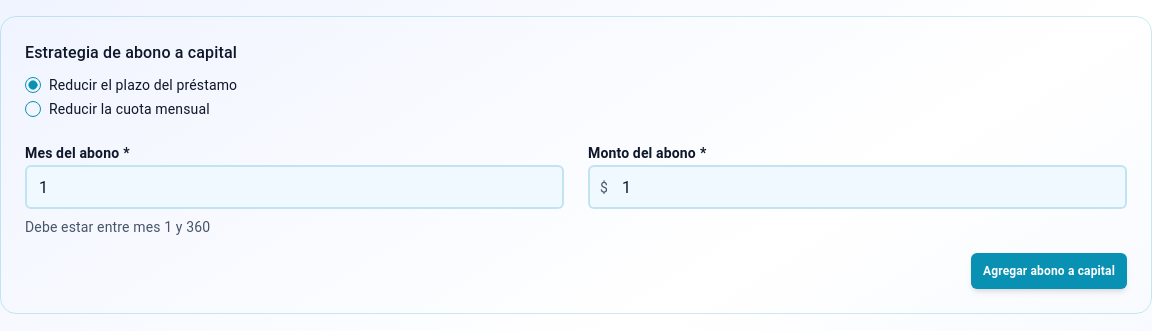
Test: PrepaymentForm › debe limpiar el formulario después de agregar
Step 1. Replace the text in the number field labelled "Mes del abono*" with "24" → (294, 187), box x1=25 y1=165 x2=564 y2=209
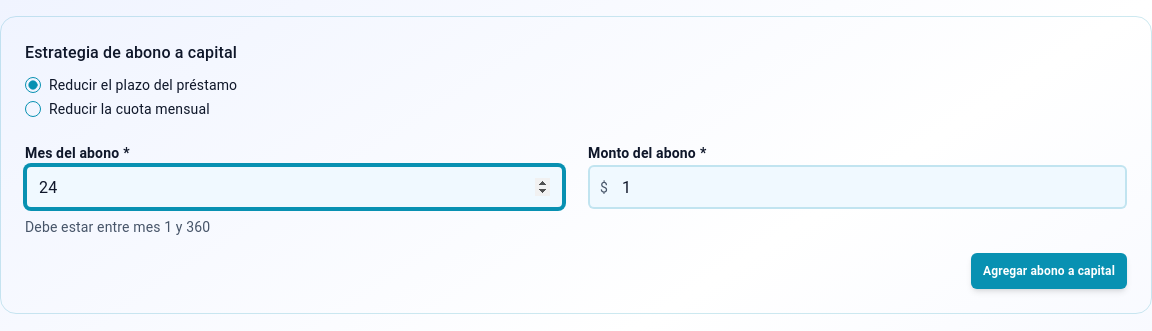
Step 2. Replace the text in the number field labelled "Monto del abono*" with "5000" → (858, 187), box x1=588 y1=165 x2=1127 y2=209
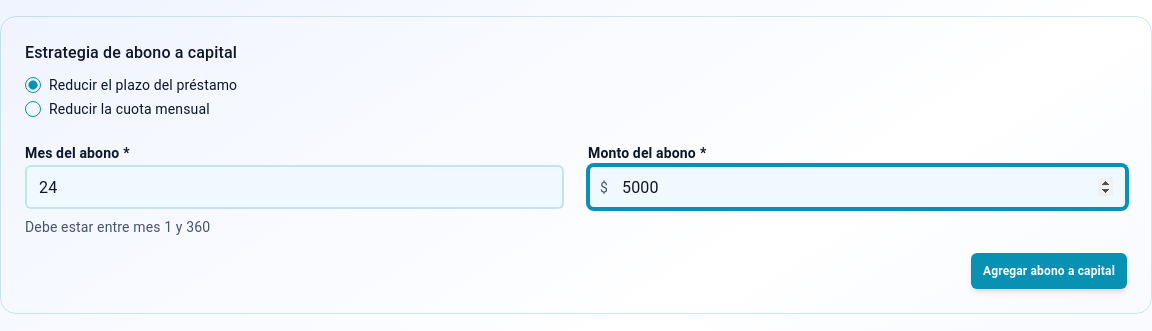
Step 3. Click the button "Agregar abono a capital" → (1049, 271), box x1=971 y1=253 x2=1127 y2=289
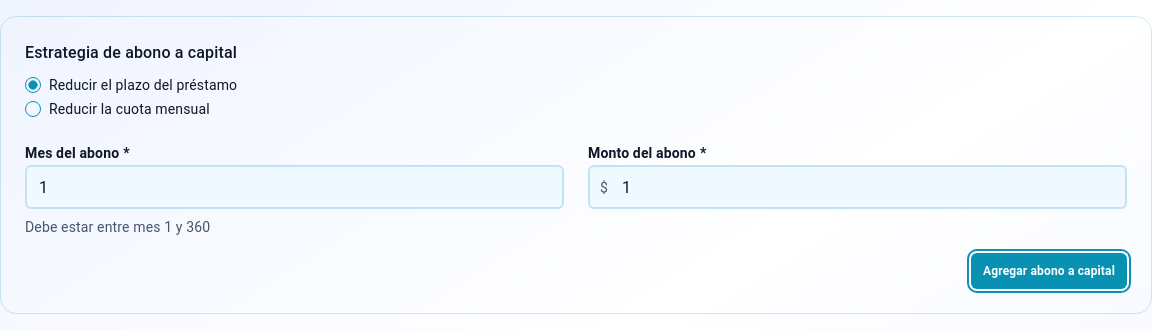
Result: the number field labelled "Mes del abono*" holds "1" at x1=25 y1=165 x2=564 y2=209
Result: the number field labelled "Monto del abono*" holds "1" at x1=588 y1=165 x2=1127 y2=209
